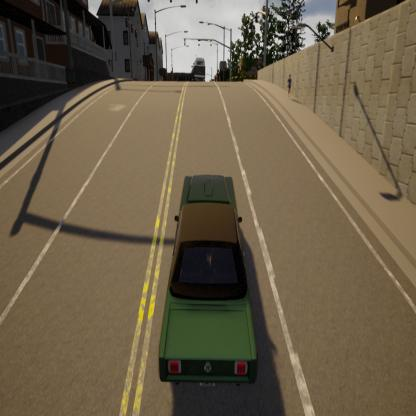Cars: (144, 168, 266, 402), (190, 53, 208, 83)
Pedestrian: (284, 67, 296, 102)
